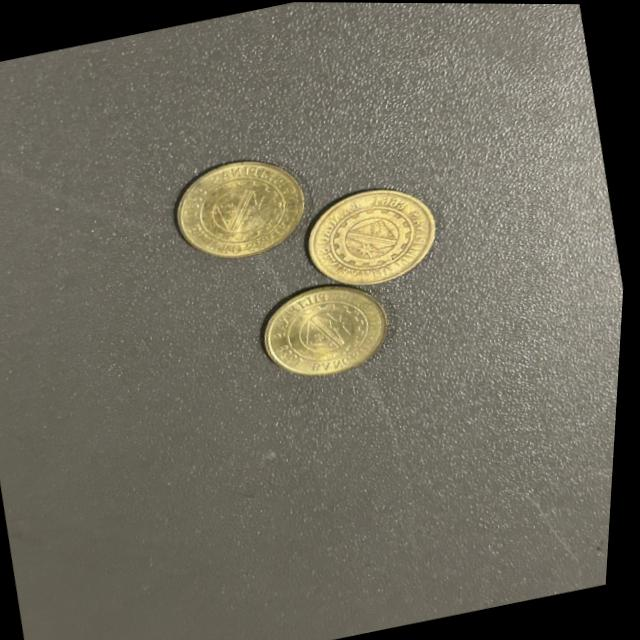25Cent_Old_Back: (163, 143, 316, 271), (255, 273, 400, 388)
